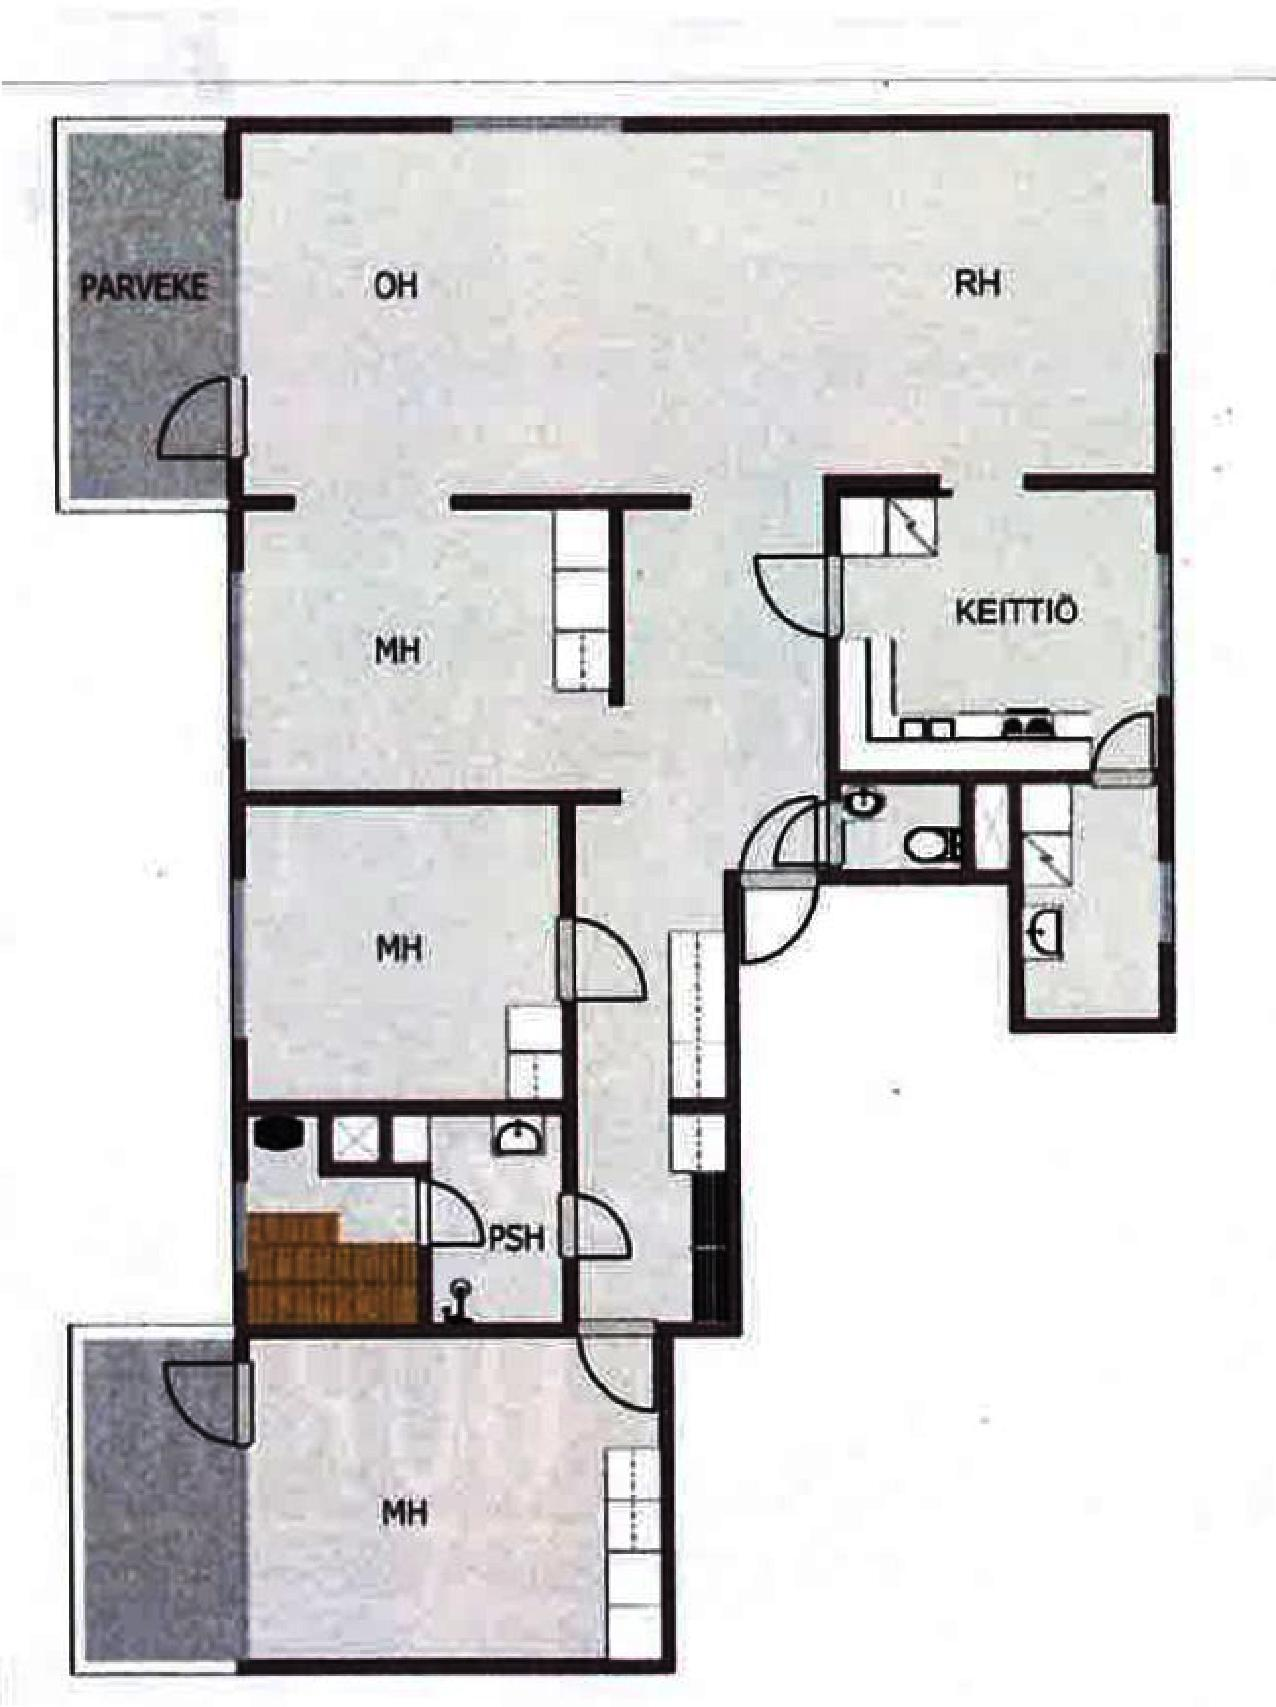door: (147, 377, 251, 469), (576, 1316, 659, 1418), (554, 922, 649, 1008), (747, 555, 844, 638), (739, 795, 824, 875), (556, 1198, 637, 1268), (416, 1184, 480, 1247), (781, 804, 844, 860), (1095, 718, 1149, 774)
window: (454, 107, 618, 151), (227, 878, 249, 1050), (1145, 560, 1171, 682), (224, 573, 244, 736), (1149, 198, 1169, 358), (1155, 860, 1171, 935), (231, 1186, 244, 1269)
zone: (233, 135, 1153, 1314), (253, 1326, 653, 1661), (247, 803, 555, 1096), (836, 494, 1149, 773), (68, 131, 227, 489), (82, 1330, 249, 1653), (249, 1111, 422, 1322), (1025, 776, 1155, 1020), (433, 1127, 567, 1318), (831, 774, 1007, 866)
